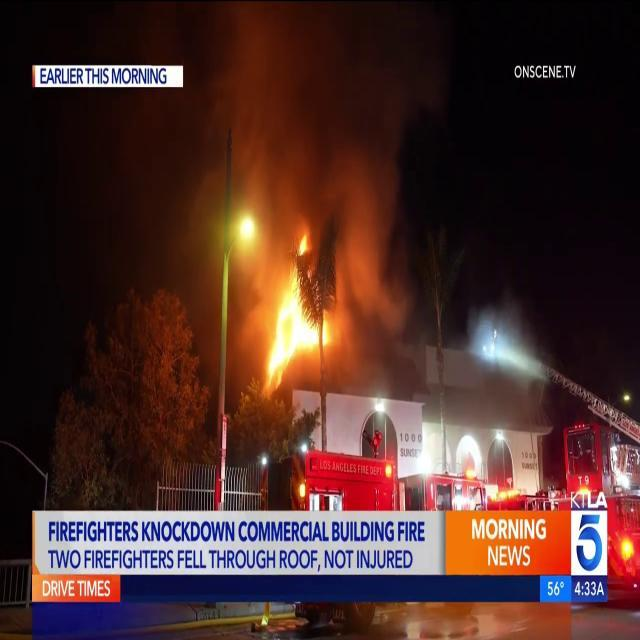Fire: (256, 252, 334, 376)
Smoke: (139, 0, 409, 300)
